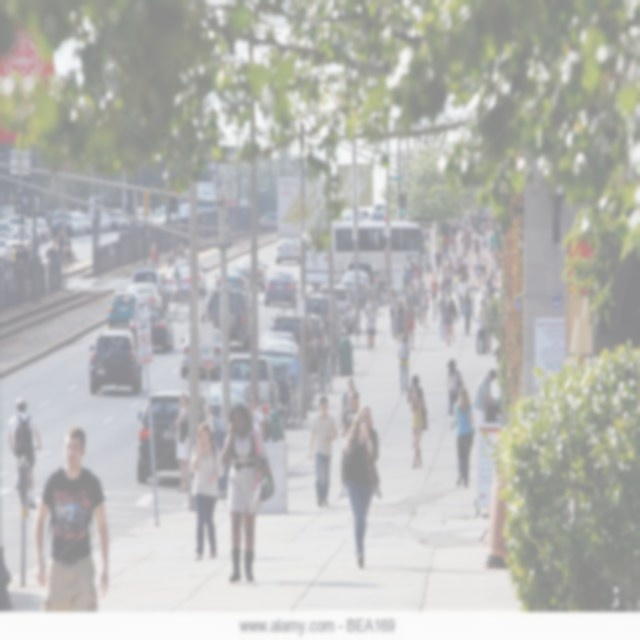pessoa: (31, 424, 112, 639), (219, 400, 276, 586), (403, 204, 502, 300), (339, 402, 382, 572), (187, 419, 222, 563), (5, 395, 43, 511), (307, 394, 338, 508), (150, 239, 190, 304), (451, 385, 475, 490), (405, 372, 429, 470), (173, 392, 191, 496), (444, 357, 465, 433), (472, 367, 499, 426), (250, 392, 267, 480), (339, 376, 356, 438), (340, 389, 361, 438), (396, 330, 411, 398), (1, 238, 34, 268), (283, 350, 303, 392), (476, 297, 489, 356), (435, 290, 449, 343), (404, 298, 417, 350), (364, 304, 377, 354), (416, 286, 430, 330), (461, 288, 473, 339), (445, 298, 458, 344), (396, 298, 407, 348), (202, 401, 222, 428), (386, 286, 398, 330), (404, 298, 422, 326), (339, 301, 354, 333), (64, 233, 75, 270), (56, 228, 66, 268), (46, 234, 58, 266), (362, 278, 378, 302), (483, 329, 493, 356), (431, 298, 439, 324), (458, 298, 465, 316)
